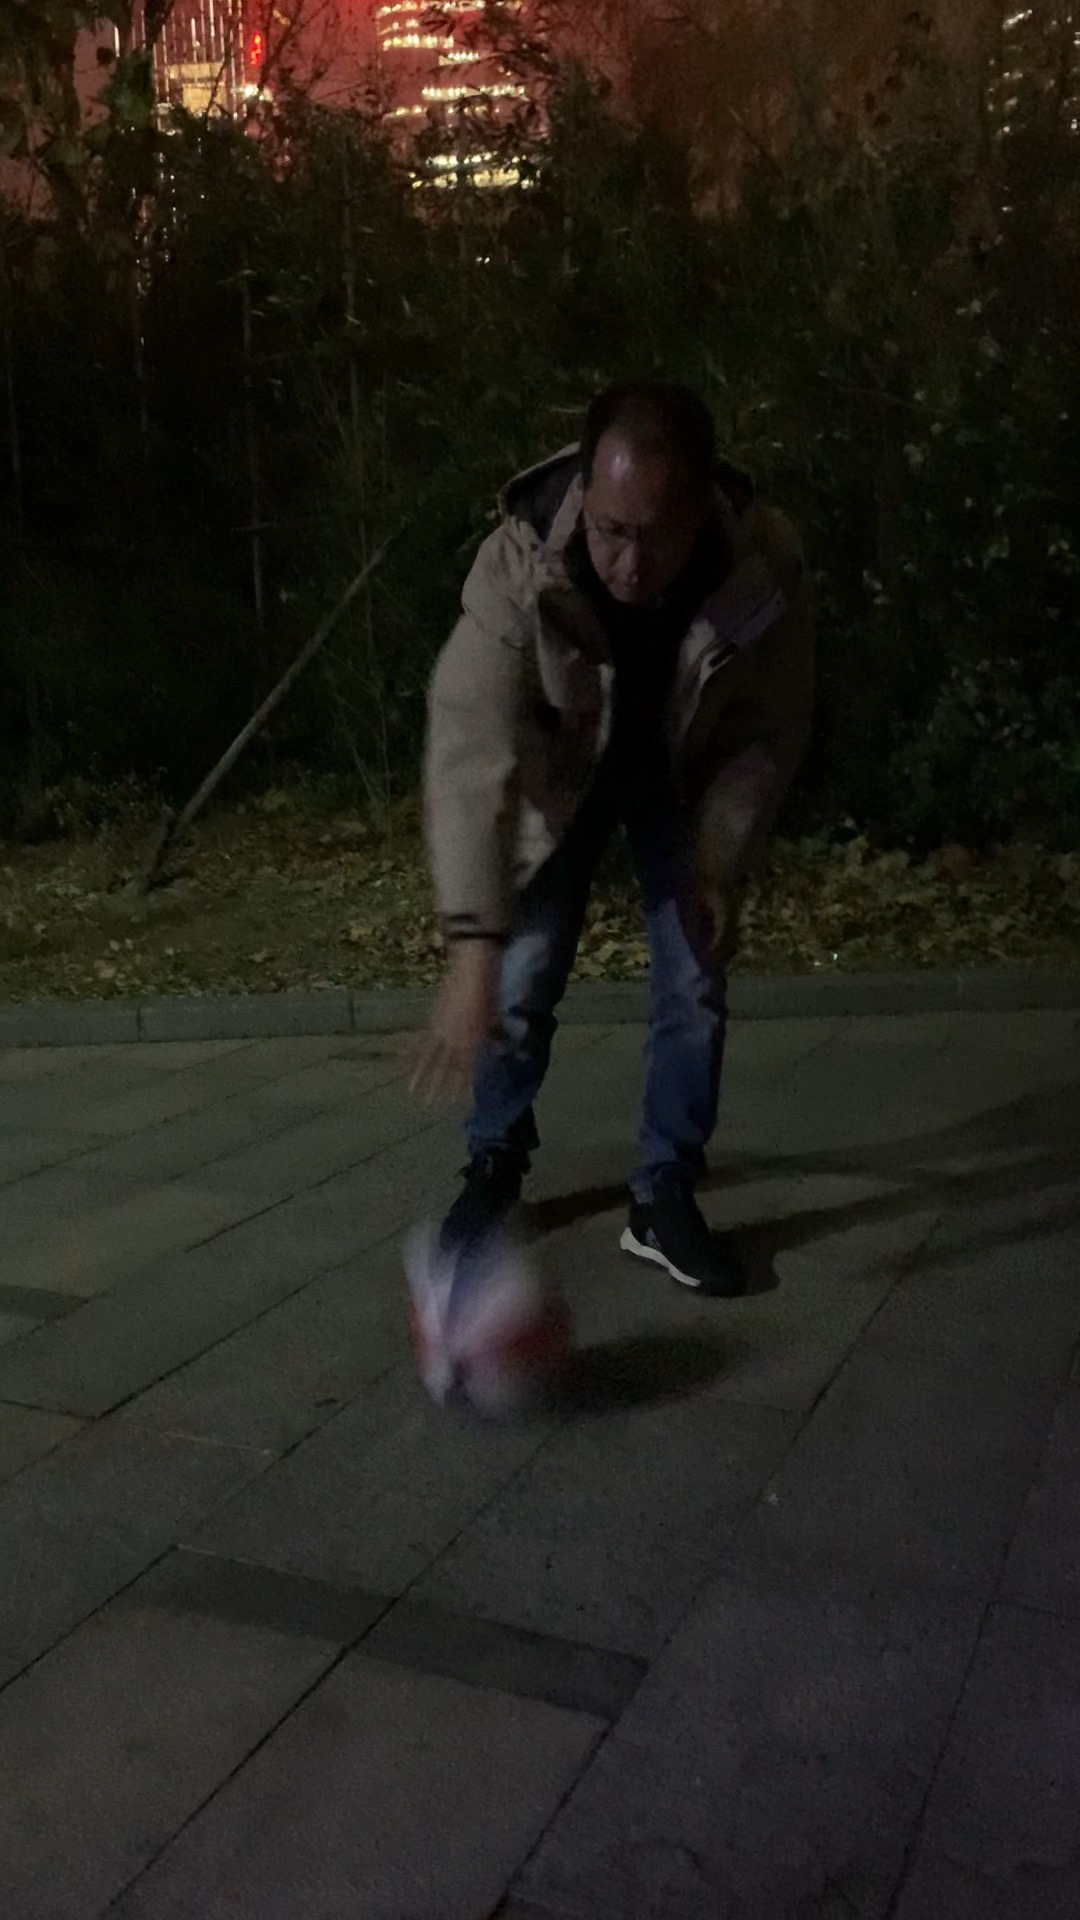ball: (419, 1269, 571, 1423)
